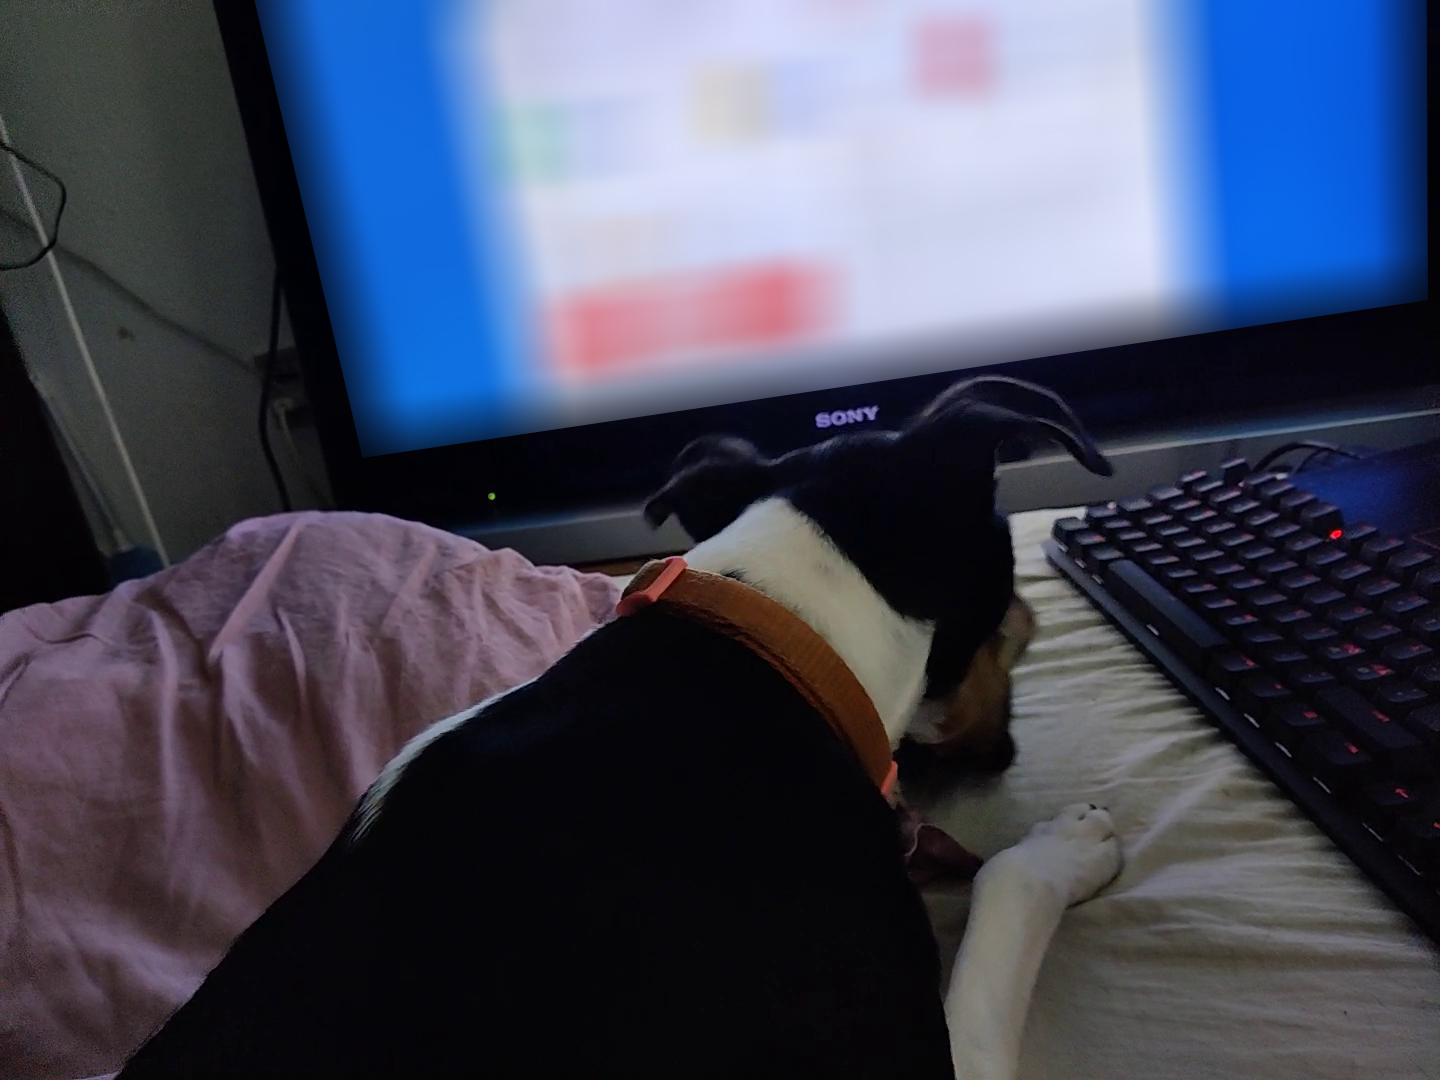Dog: (103, 369, 1130, 1079)
